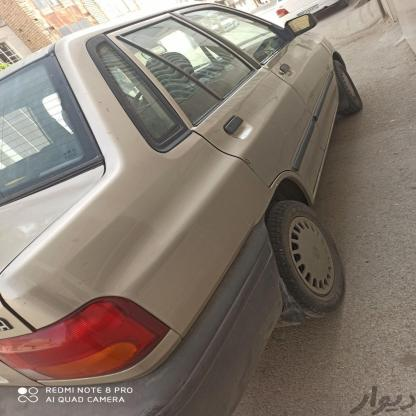Car: (0, 0, 368, 416)
